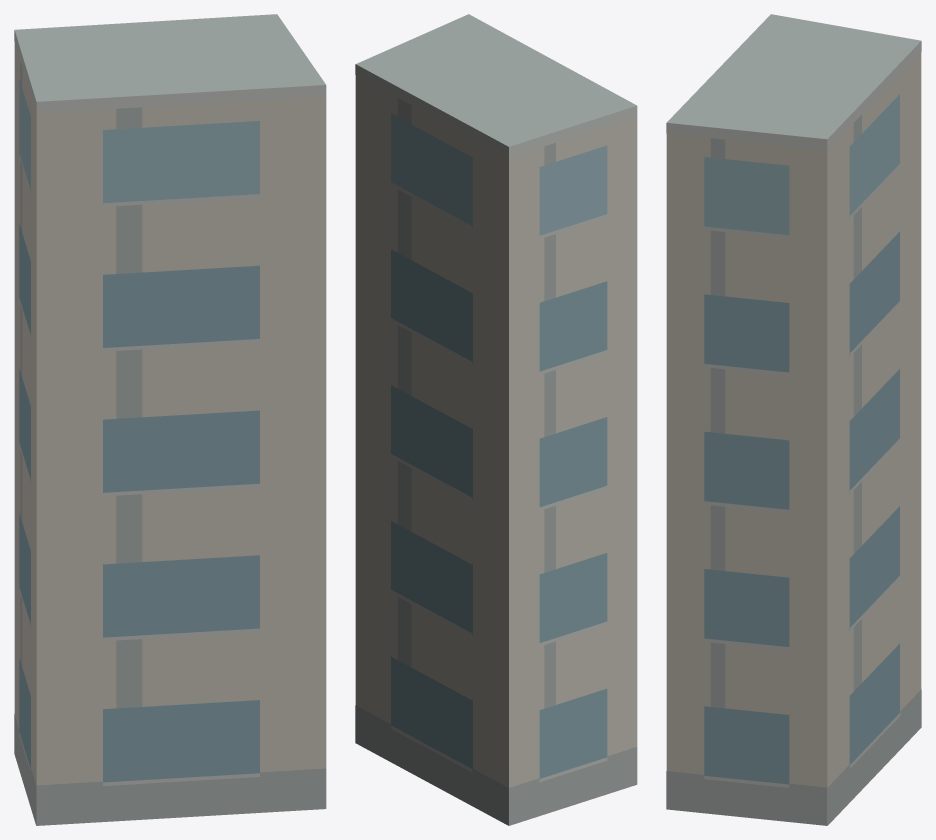
File: survey-upis-32820222.glb
The picture shows the model from 3 angles, left to right: view 1: azimuth 30°, elevation 25°; view 2: azimuth 150°, elevation 25°; view 3: azimuth 270°, elevation 25°; orthographic projection. The views are drawn at different scales.
Parts seen in each view (by area): view 1: survey-upis-32820222.tmp; view 2: survey-upis-32820222.tmp; view 3: survey-upis-32820222.tmp.
Boxes of the visible parts, box(x1,y1,x2,y2) form: survey-upis-32820222.tmp: box(14, 14, 326, 825); survey-upis-32820222.tmp: box(355, 14, 637, 825); survey-upis-32820222.tmp: box(666, 14, 921, 825).
Size of the model in its own units: 5.97 by 15.25 by 5.14.
